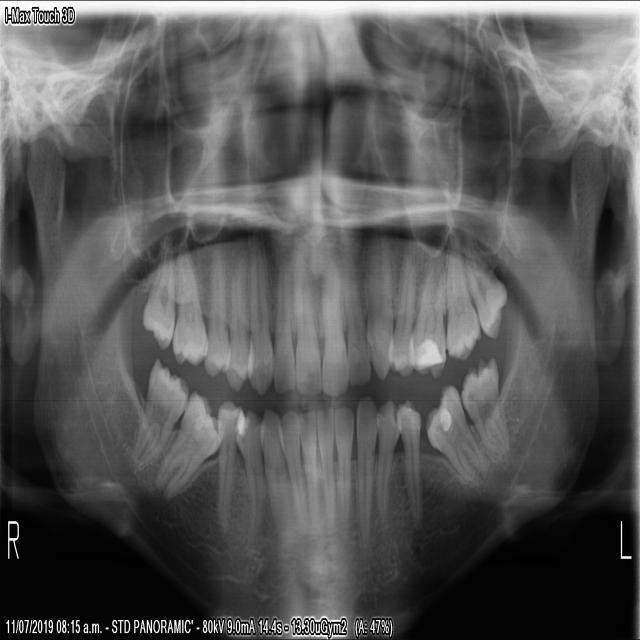LCD: (353, 389, 379, 546)
LCU: (363, 228, 394, 386)
LID: (313, 399, 336, 527), (331, 401, 354, 525)
LIU: (341, 251, 372, 390), (319, 256, 347, 397)
LMD: (421, 378, 490, 495), (456, 349, 512, 466)
LMU: (406, 238, 447, 380), (442, 219, 481, 367), (461, 241, 510, 343)
LPMD: (392, 394, 423, 527), (372, 392, 401, 533)
LPMU: (384, 235, 418, 383)
RCD: (256, 400, 292, 548)
RCU: (244, 237, 275, 398)
RID: (274, 402, 307, 526), (296, 402, 319, 526)
RIU: (290, 257, 322, 401), (269, 260, 296, 398)
RMD: (152, 384, 224, 501), (127, 353, 189, 477)
RMU: (170, 246, 209, 369), (138, 231, 176, 354)
RPMD: (232, 402, 267, 544), (214, 393, 241, 533)
RPMU: (220, 238, 254, 395), (200, 231, 231, 381)
